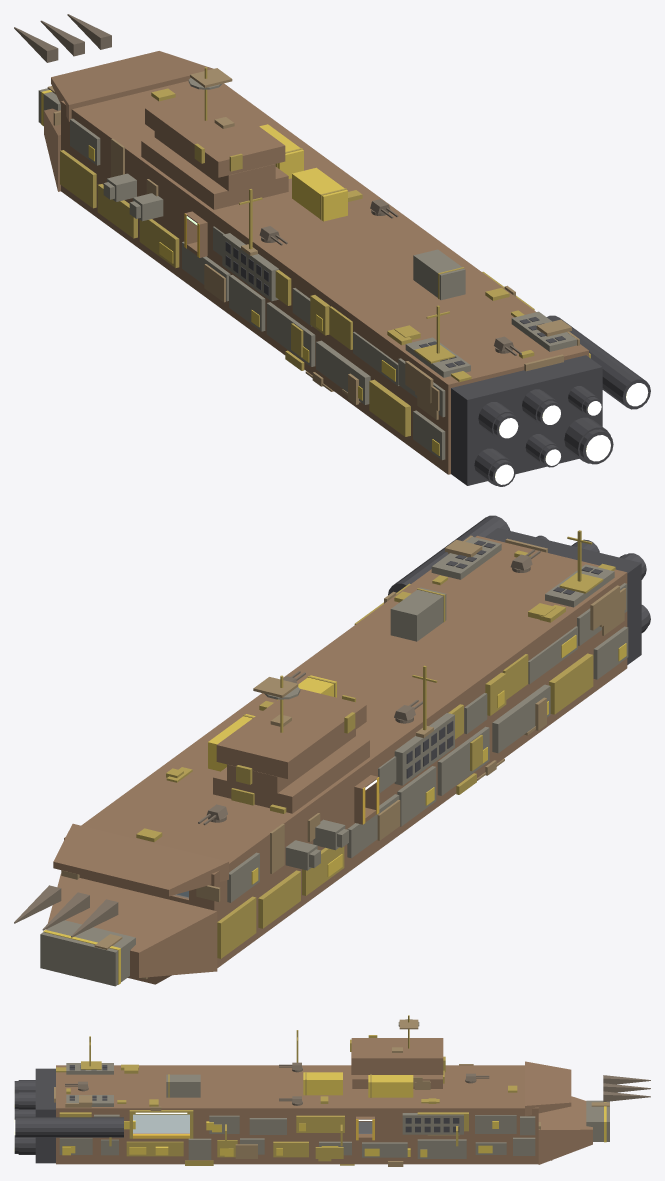
File: ship_SMALL_FRIGATE_v1.glb
3 views of the same model, one above another, from view 1: azimuth 30°, elevation 25°; view 2: azimuth 150°, elevation 25°; view 3: azimuth 270°, elevation 25° (orthographic). The views are drawn at different scales.
Visible parts, largest first — view 1: SMALL_FRIGATE_Hull-col, SMALL_FRIGATE_Engines, SMALL_FRIGATE_Armor, SMALL_FRIGATE_Trim, SMALL_FRIGATE_ScrapPlates, SMALL_FRIGATE_Accent, SMALL_FRIGATE_EngineGlow, SMALL_FRIGATE_ScrapTrim, SMALL_FRIGATE_RamSpikes, SMALL_FRIGATE_Details, SMALL_FRIGATE_EscapePod_1, SMALL_FRIGATE_EscapePod_2; view 2: SMALL_FRIGATE_Hull-col, SMALL_FRIGATE_Armor, SMALL_FRIGATE_Trim, SMALL_FRIGATE_Engines, SMALL_FRIGATE_ScrapPlates, SMALL_FRIGATE_ScrapTrim, SMALL_FRIGATE_Accent, SMALL_FRIGATE_RamSpikes, SMALL_FRIGATE_Details, SMALL_FRIGATE_EscapePod_2, SMALL_FRIGATE_EscapePod_1; view 3: SMALL_FRIGATE_Hull-col, SMALL_FRIGATE_Armor, SMALL_FRIGATE_Engines, SMALL_FRIGATE_Trim, SMALL_FRIGATE_Accent, SMALL_FRIGATE_ScrapPlates, SMALL_FRIGATE_CargoBayShield, SMALL_FRIGATE_CargoBayDoor-col, SMALL_FRIGATE_ScrapTrim, SMALL_FRIGATE_RamSpikes, SMALL_FRIGATE_Details, SMALL_FRIGATE_Hazard.
Boxes of the visible parts, x1,y1,x2,y2 form: SMALL_FRIGATE_Hull-col: [44, 51, 588, 474]; SMALL_FRIGATE_Engines: [225, 241, 650, 486]; SMALL_FRIGATE_Armor: [38, 78, 576, 460]; SMALL_FRIGATE_Trim: [60, 67, 590, 436]; SMALL_FRIGATE_ScrapPlates: [47, 68, 579, 419]; SMALL_FRIGATE_Accent: [41, 90, 439, 455]; SMALL_FRIGATE_EngineGlow: [495, 383, 648, 484]; SMALL_FRIGATE_ScrapTrim: [194, 143, 455, 370]; SMALL_FRIGATE_RamSpikes: [14, 14, 111, 62]; SMALL_FRIGATE_Details: [151, 88, 534, 381]; SMALL_FRIGATE_EscapePod_1: [129, 193, 163, 221]; SMALL_FRIGATE_EscapePod_2: [103, 173, 136, 201]; SMALL_FRIGATE_Hull-col: [46, 535, 627, 984]; SMALL_FRIGATE_Armor: [40, 536, 628, 986]; SMALL_FRIGATE_Trim: [217, 583, 593, 958]; SMALL_FRIGATE_Engines: [388, 515, 650, 778]; SMALL_FRIGATE_ScrapPlates: [61, 535, 625, 979]; SMALL_FRIGATE_ScrapTrim: [231, 530, 603, 805]; SMALL_FRIGATE_Accent: [43, 635, 626, 984]; SMALL_FRIGATE_RamSpikes: [14, 885, 118, 937]; SMALL_FRIGATE_Details: [136, 550, 615, 841]; SMALL_FRIGATE_EscapePod_2: [285, 840, 320, 870]; SMALL_FRIGATE_EscapePod_1: [313, 819, 348, 850]; SMALL_FRIGATE_Hull-col: [56, 1038, 592, 1164]; SMALL_FRIGATE_Armor: [59, 1019, 609, 1159]; SMALL_FRIGATE_Engines: [14, 1065, 459, 1163]; SMALL_FRIGATE_Trim: [59, 1015, 468, 1157]; SMALL_FRIGATE_Accent: [62, 1072, 606, 1157]; SMALL_FRIGATE_ScrapPlates: [54, 1019, 609, 1166]; SMALL_FRIGATE_CargoBayShield: [133, 1114, 189, 1133]; SMALL_FRIGATE_CargoBayDoor-col: [133, 1114, 189, 1132]; SMALL_FRIGATE_ScrapTrim: [81, 1030, 445, 1165]; SMALL_FRIGATE_RamSpikes: [603, 1075, 650, 1101]; SMALL_FRIGATE_Details: [56, 1064, 517, 1106]; SMALL_FRIGATE_Hazard: [133, 1119, 374, 1140].
Bounding box in the file's own units: 20.7 × 21.07 × 93.72.
